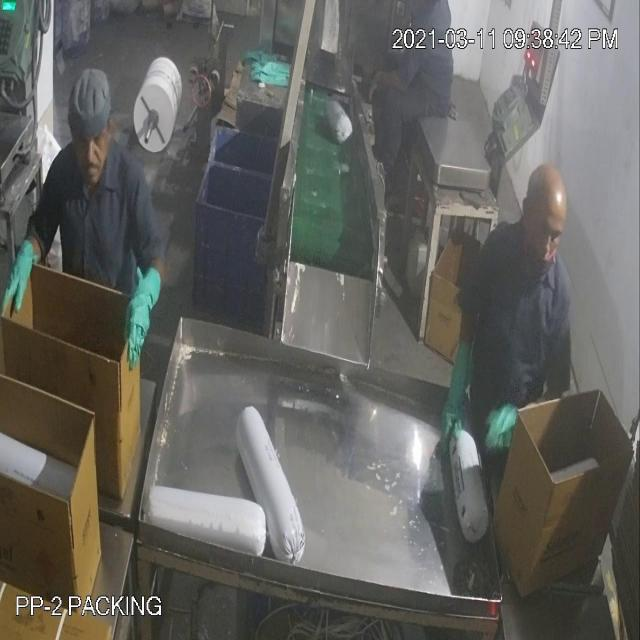Gloves: (50, 124, 457, 392)
